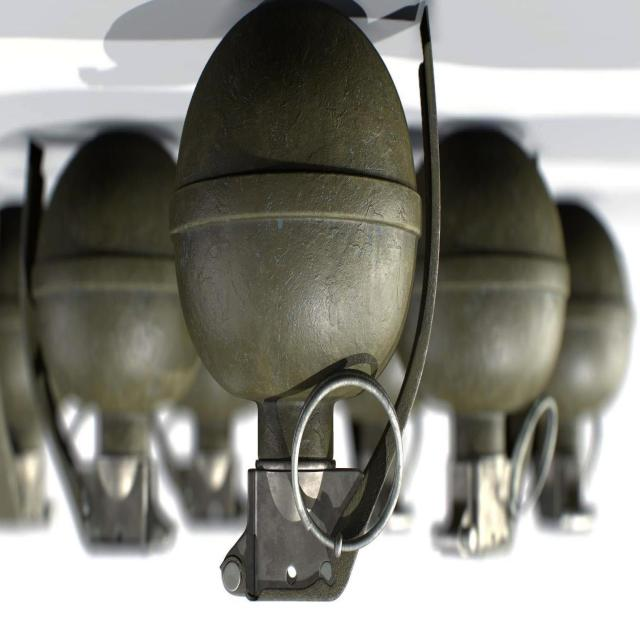grenade: (174, 2, 443, 602), (21, 138, 203, 556), (398, 127, 571, 563), (517, 204, 635, 539), (155, 361, 259, 534), (1, 192, 52, 537)
